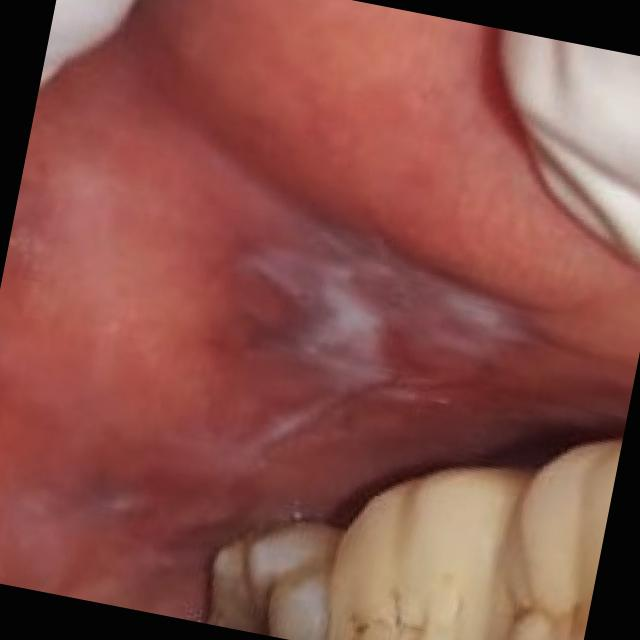Cancer: (203, 190, 552, 486)
